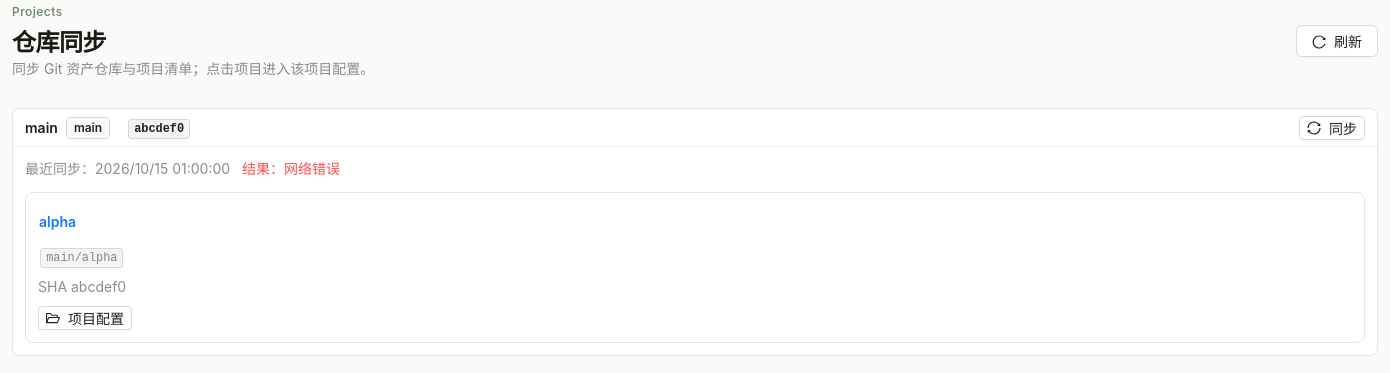
ProjectListPage Phase 4.0 › 同步失败展示类别中文文案
Expected: the text with test id "repo-sync-result-main" shows "网络错误", top-left (284, 160), bottom-right (340, 177)
# 列表上已有失败类别；再点同步失败应 toast（文案含认证失败）
Click the button with test id "sync-repo-main": coordinates (1332, 128) top-left (1299, 116), bottom-right (1365, 140)
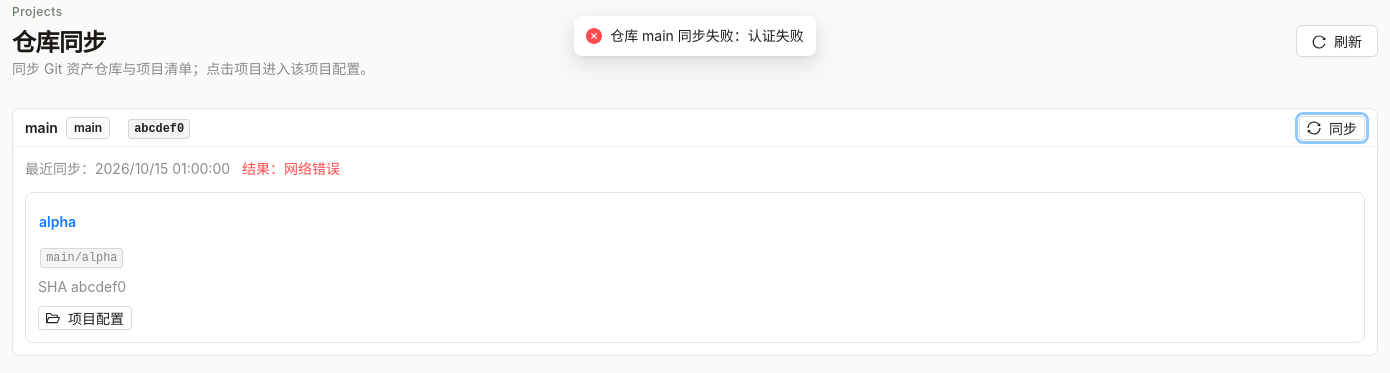
Expected: the text "仓库 main 同步失败：认证失败" is shown, top-left (610, 25), bottom-right (804, 47)
